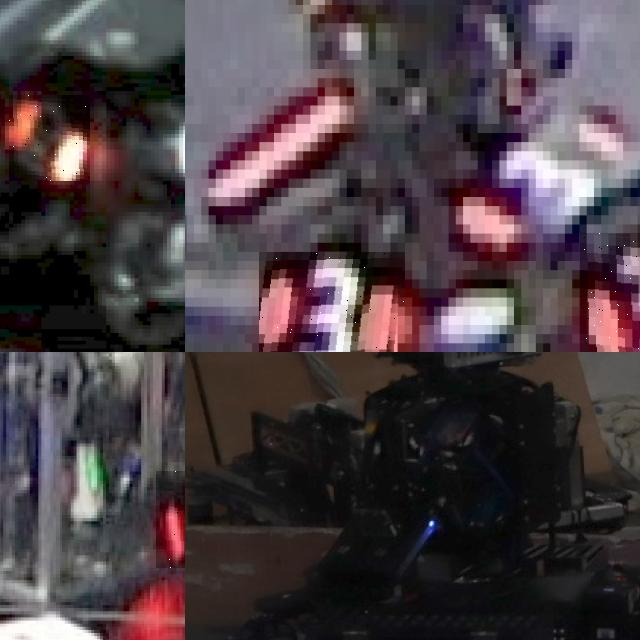R2: (156, 471, 185, 567)
R3: (259, 252, 404, 352), (579, 233, 640, 352)
Rs: (9, 95, 90, 181)
